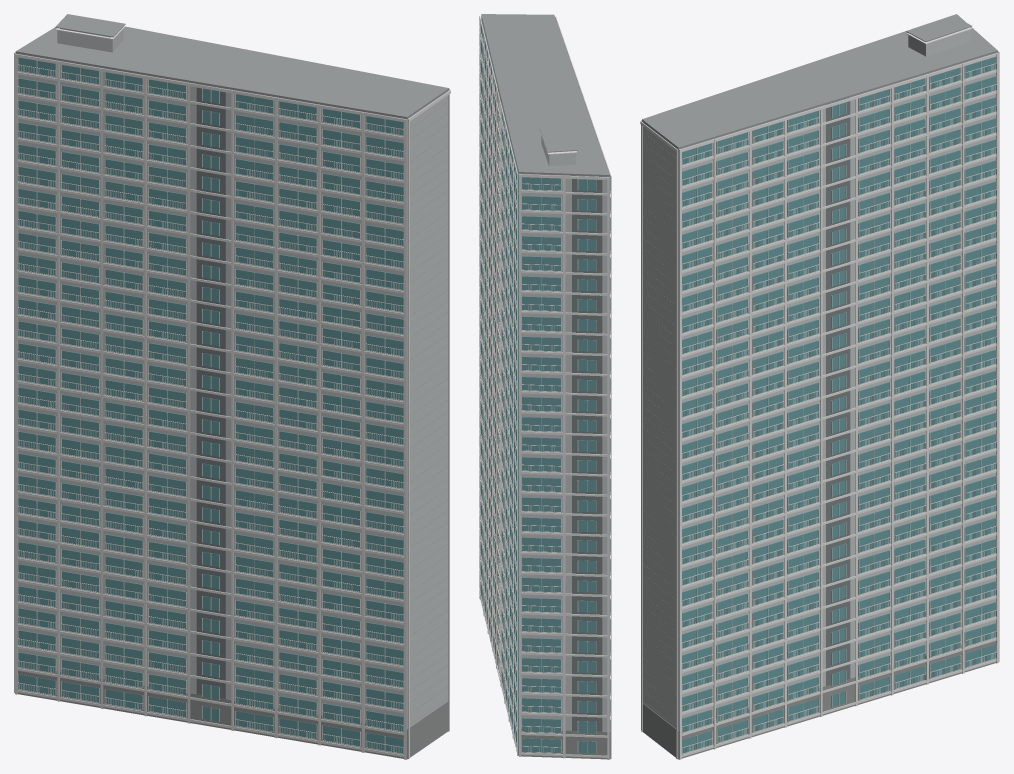
The model's file is bespoke-jamsil-ricenz-240.glb.
3 renders of one model, left to right at view 1: azimuth 30°, elevation 25°; view 2: azimuth 150°, elevation 25°; view 3: azimuth 270°, elevation 25°, orthographic. The views are drawn at different scales.
Visible parts, largest first — view 1: Ricenz240_editable_Ricenz240_turquoise_balcony_glazing, Ricenz240_editable_Ricenz240_light_grey_solid_wall, Ricenz240_white_exact_chunk_4, Ricenz240_white_exact_chunk_2, Ricenz240_white_exact_chunk_1, Ricenz240_white_exact_chunk_3, Ricenz240_editable_Ricenz240_modest_grey_flat_roof_caps, Ricenz240_white_exact_chunk_0, Ricenz240_editable_Ricenz240_narrow_charcoal_service_strips, Ricenz240_editable_Ricenz240_muted_ground_wall; view 2: Ricenz240_editable_Ricenz240_turquoise_balcony_glazing, Ricenz240_white_exact_chunk_0, Ricenz240_editable_Ricenz240_light_grey_solid_wall, Ricenz240_editable_Ricenz240_modest_grey_flat_roof_caps, Ricenz240_editable_Ricenz240_narrow_charcoal_service_strips, Ricenz240_white_exact_chunk_7, Ricenz240_white_exact_chunk_5, Ricenz240_white_exact_chunk_4, Ricenz240_white_exact_chunk_6, Ricenz240_editable_Ricenz240_muted_ground_wall; view 3: Ricenz240_editable_Ricenz240_turquoise_balcony_glazing, Ricenz240_editable_Ricenz240_light_grey_solid_wall, Ricenz240_white_exact_chunk_7, Ricenz240_white_exact_chunk_5, Ricenz240_white_exact_chunk_6, Ricenz240_white_exact_chunk_4, Ricenz240_editable_Ricenz240_modest_grey_flat_roof_caps, Ricenz240_editable_Ricenz240_narrow_charcoal_service_strips, Ricenz240_editable_Ricenz240_muted_ground_wall, Ricenz240_white_exact_chunk_0.
Part boxes in pixels (x1,y1,x2,y2): Ricenz240_editable_Ricenz240_turquoise_balcony_glazing: [18, 57, 403, 753]; Ricenz240_editable_Ricenz240_light_grey_solid_wall: [16, 28, 449, 728]; Ricenz240_white_exact_chunk_4: [15, 53, 450, 759]; Ricenz240_white_exact_chunk_2: [146, 79, 318, 742]; Ricenz240_white_exact_chunk_1: [59, 65, 187, 720]; Ricenz240_white_exact_chunk_3: [277, 101, 403, 757]; Ricenz240_editable_Ricenz240_modest_grey_flat_roof_caps: [15, 14, 449, 724]; Ricenz240_white_exact_chunk_0: [14, 52, 100, 706]; Ricenz240_editable_Ricenz240_narrow_charcoal_service_strips: [196, 83, 225, 698]; Ricenz240_editable_Ricenz240_muted_ground_wall: [18, 667, 448, 759]; Ricenz240_editable_Ricenz240_turquoise_balcony_glazing: [480, 19, 610, 753]; Ricenz240_white_exact_chunk_0: [518, 174, 610, 759]; Ricenz240_editable_Ricenz240_light_grey_solid_wall: [481, 17, 609, 731]; Ricenz240_editable_Ricenz240_modest_grey_flat_roof_caps: [481, 14, 609, 176]; Ricenz240_editable_Ricenz240_narrow_charcoal_service_strips: [498, 88, 602, 731]; Ricenz240_white_exact_chunk_7: [479, 15, 576, 755]; Ricenz240_white_exact_chunk_5: [484, 43, 504, 698]; Ricenz240_white_exact_chunk_4: [479, 16, 611, 758]; Ricenz240_white_exact_chunk_6: [500, 109, 512, 733]; Ricenz240_editable_Ricenz240_muted_ground_wall: [483, 585, 610, 759]; Ricenz240_editable_Ricenz240_turquoise_balcony_glazing: [682, 56, 995, 753]; Ricenz240_editable_Ricenz240_light_grey_solid_wall: [642, 28, 997, 730]; Ricenz240_white_exact_chunk_7: [679, 27, 998, 759]; Ricenz240_white_exact_chunk_5: [717, 102, 891, 735]; Ricenz240_white_exact_chunk_6: [858, 78, 962, 692]; Ricenz240_white_exact_chunk_4: [640, 120, 749, 759]; Ricenz240_editable_Ricenz240_modest_grey_flat_roof_caps: [642, 14, 997, 725]; Ricenz240_editable_Ricenz240_narrow_charcoal_service_strips: [826, 97, 850, 685]; Ricenz240_editable_Ricenz240_muted_ground_wall: [643, 638, 996, 759]; Ricenz240_white_exact_chunk_0: [998, 51, 999, 661].
Bounding box in the file's own units: 40.71 × 88.33 × 45.8.
